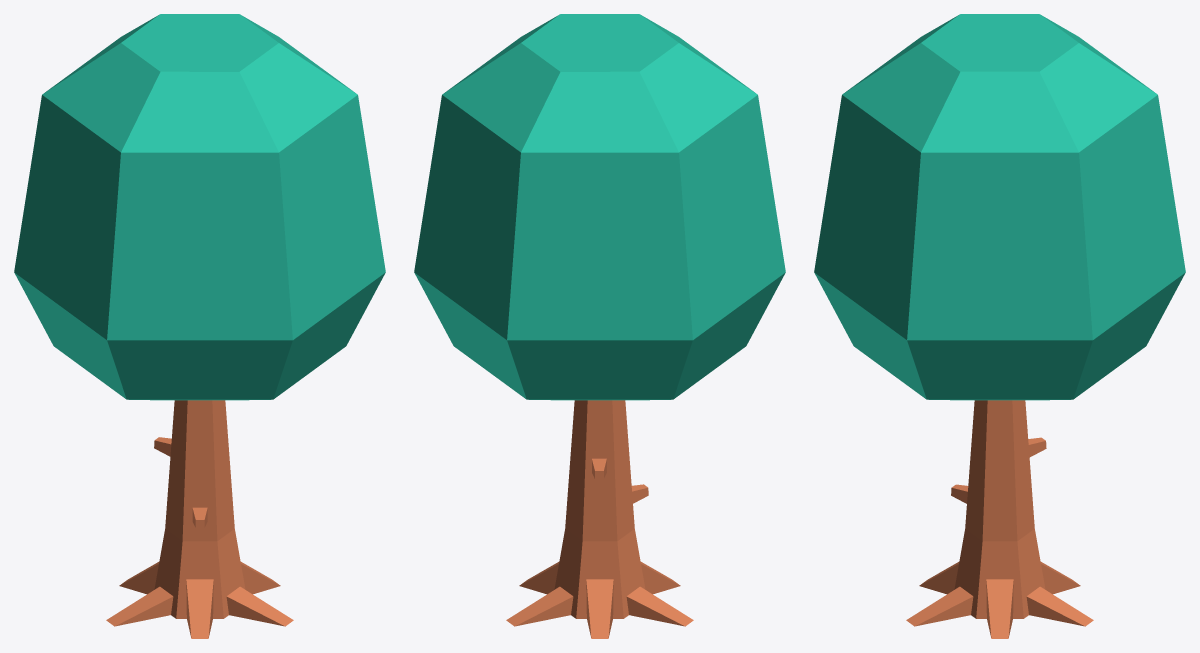
File: d_kenney_chene.glb
3 views of the same model, side by side, from view 1: azimuth 30°, elevation 25°; view 2: azimuth 150°, elevation 25°; view 3: azimuth 270°, elevation 25° (orthographic).
Parts seen in each view (by area): view 1: d_kenney_chene; view 2: d_kenney_chene; view 3: d_kenney_chene.
Boxes of the visible parts, box(x1,y1,x2,y2) form: d_kenney_chene: box(14, 14, 385, 638); d_kenney_chene: box(414, 14, 785, 638); d_kenney_chene: box(814, 14, 1185, 638).
Size of the model in its own units: 0.6406 by 1.23 by 0.7397.
1 material, 1 textured.
